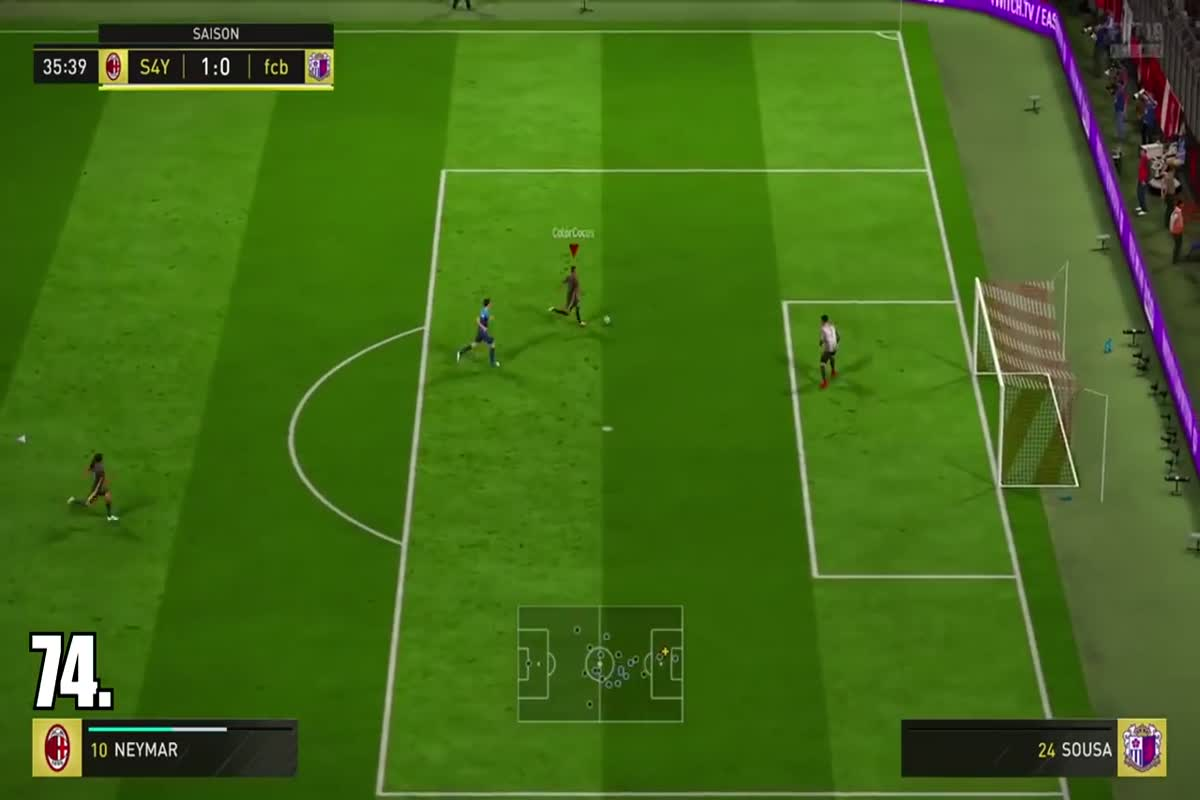ball: (596, 303, 622, 332)
